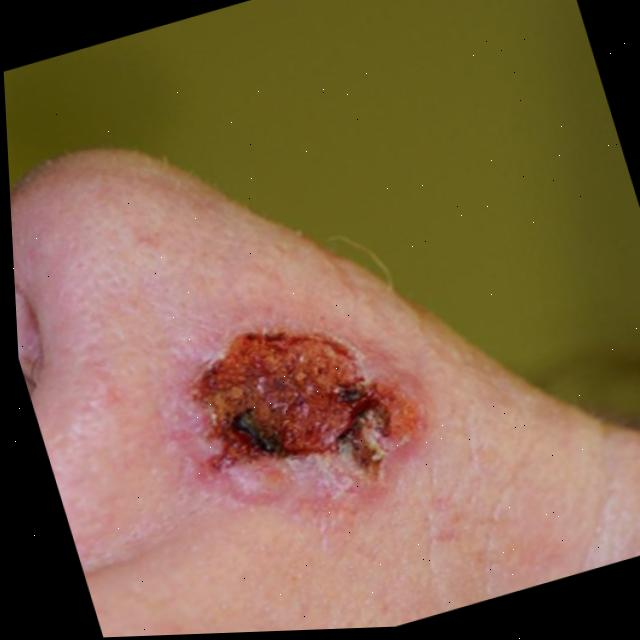Eczema: (182, 302, 438, 514)
